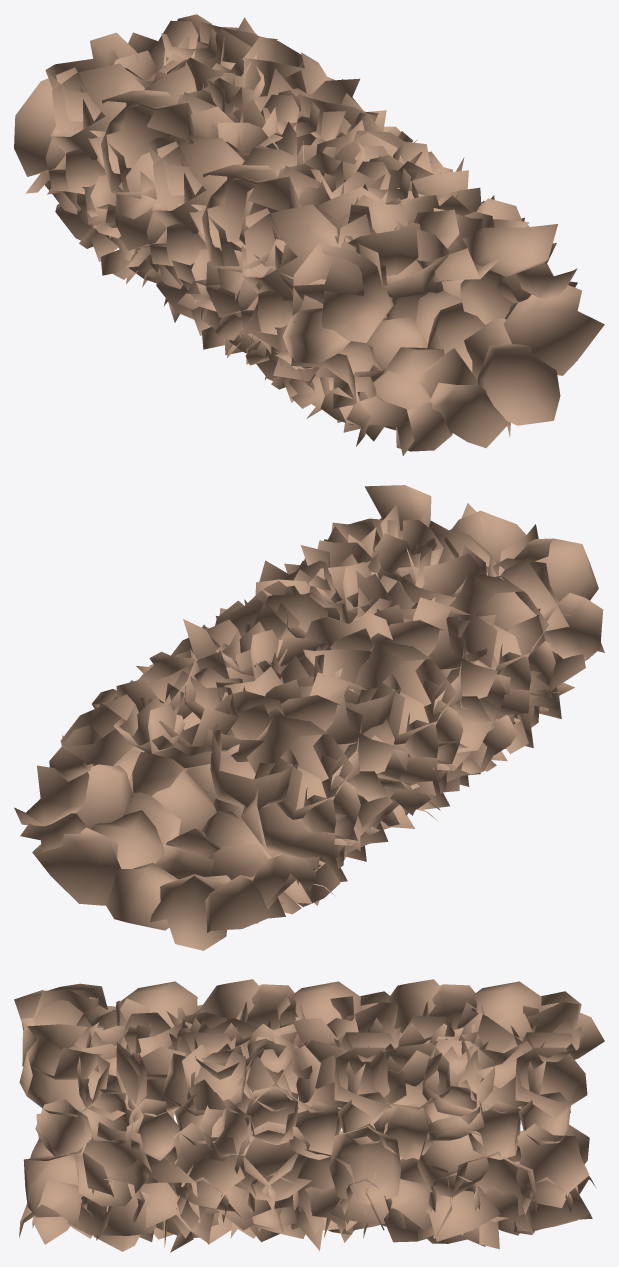
File: tunnel cailloux.FBX
3 renders of one model, top to bottom at view 1: azimuth 30°, elevation 25°; view 2: azimuth 150°, elevation 25°; view 3: azimuth 270°, elevation 25°, orthographic. The views are drawn at different scales.
Visible parts, largest first — view 1: cube021; view 2: cube021; view 3: cube021.
Boxes of the visible parts, bbox=[...] form: cube021: bbox=[14, 14, 604, 455]; cube021: bbox=[14, 485, 604, 950]; cube021: bbox=[14, 979, 604, 1252].
Size of the model in its own units: 763 by 548 by 1438.
